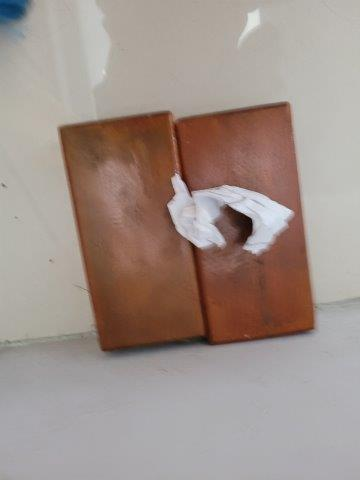kertas: (166, 175, 295, 253)
